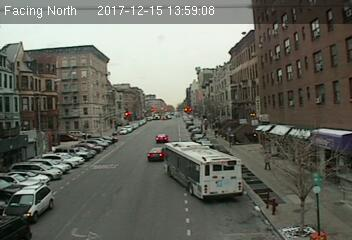bus: (162, 142, 245, 202)
car: (4, 186, 53, 220), (147, 146, 164, 159), (154, 134, 169, 142)
pedestrian: (263, 150, 272, 172)
